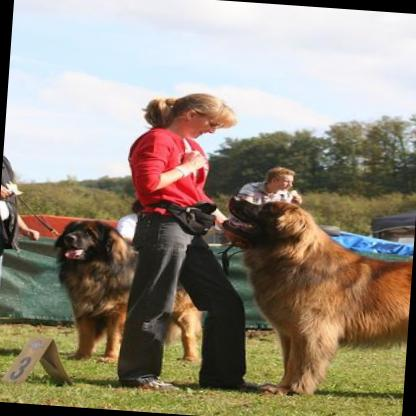Leonberg: (212, 196, 413, 402), (47, 216, 212, 370)
